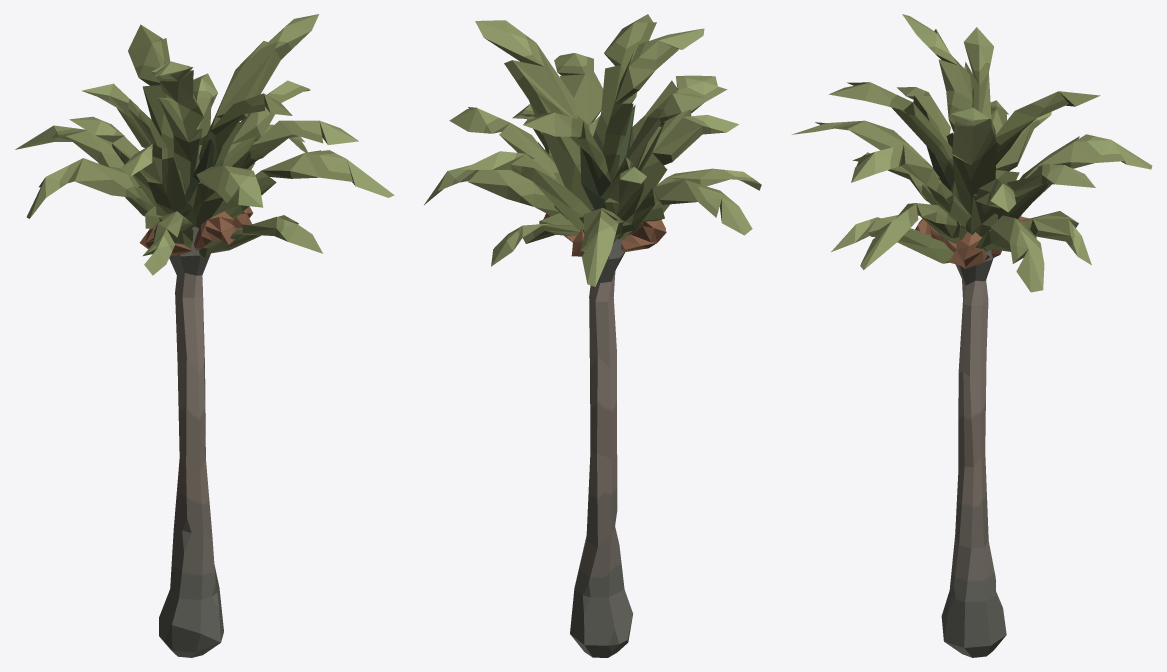
3 views of the same model, side by side, from view 1: azimuth 30°, elevation 25°; view 2: azimuth 150°, elevation 25°; view 3: azimuth 270°, elevation 25° (orthographic). The views are drawn at different scales.
Parts seen in each view (by area): view 1: SM_Env_Tree_Big_03; view 2: SM_Env_Tree_Big_03; view 3: SM_Env_Tree_Big_03.
Part boxes in pixels (x1,y1,x2,y2): SM_Env_Tree_Big_03: (15, 14, 394, 657); SM_Env_Tree_Big_03: (424, 14, 761, 657); SM_Env_Tree_Big_03: (791, 14, 1152, 657).
Size of the model in its own units: 6.06 by 11.85 by 6.38.
Materials: 1 (1 with a texture image).
